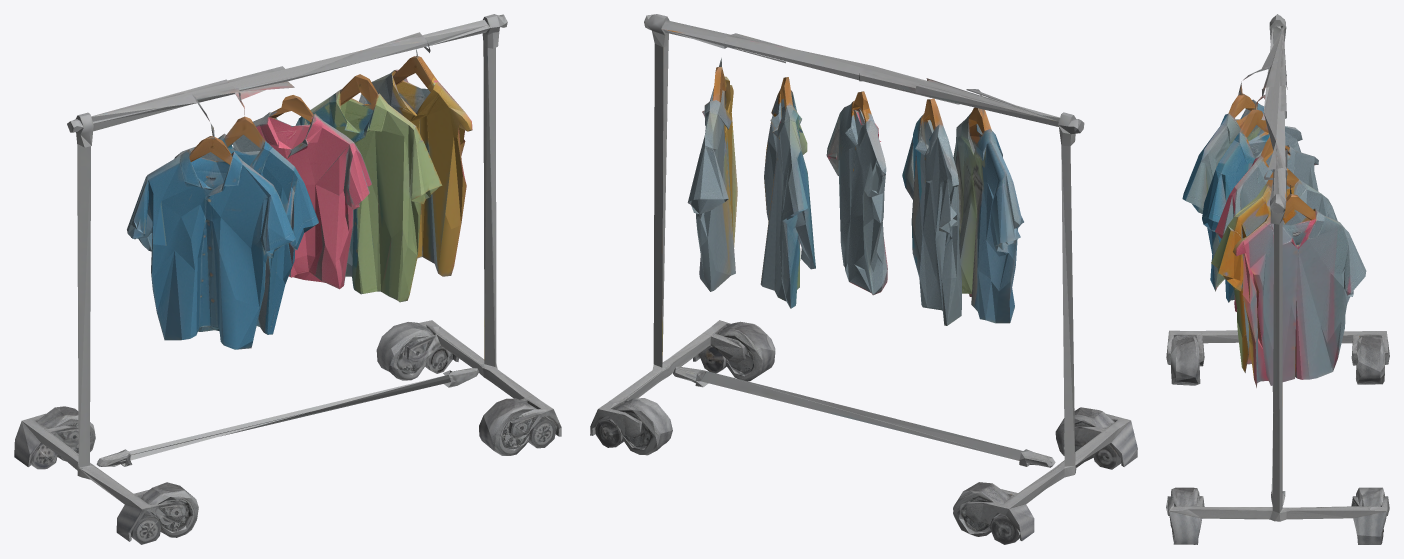
The model's file is clothing_rack.glb.
3 renders of one model, left to right at view 1: azimuth 30°, elevation 25°; view 2: azimuth 150°, elevation 25°; view 3: azimuth 270°, elevation 25°, orthographic. The views are drawn at different scales.
Size of the model in its own units: 1.9 by 1.63 by 0.9421.
1 material, 1 textured.
